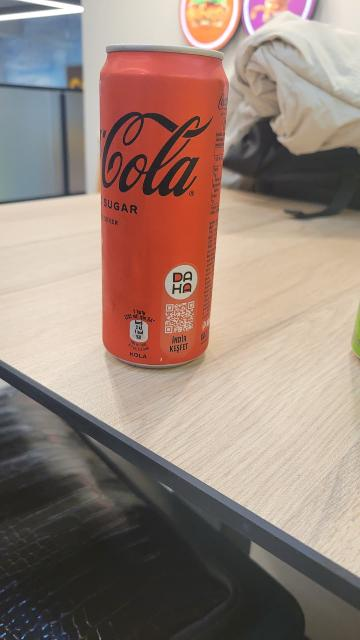Metal: (95, 41, 234, 379)
